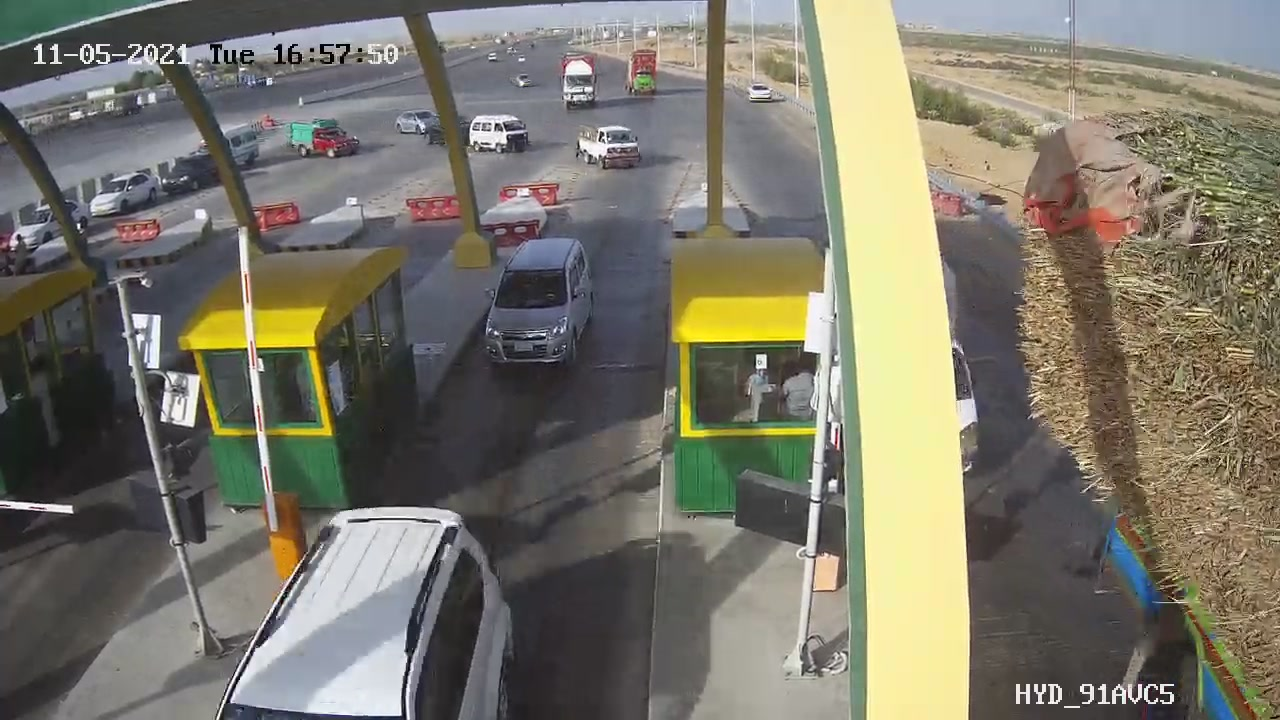F1: (465, 216, 610, 389)
